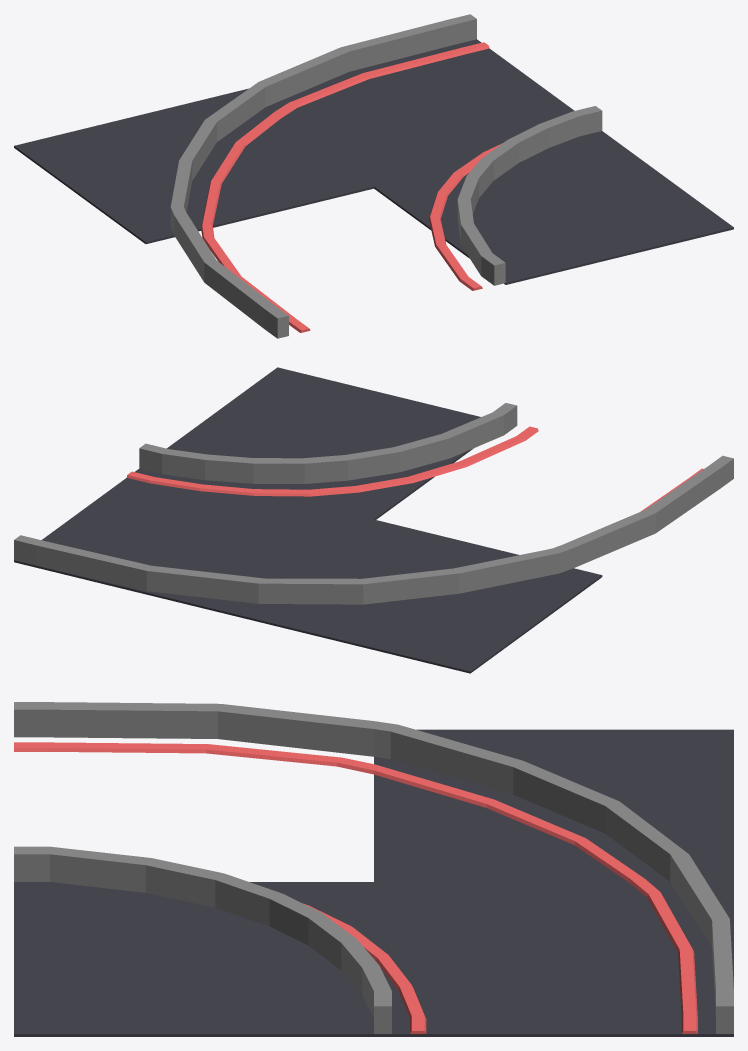
The model's file is 4x4_turn.glb.
The picture shows the model from 3 angles, top to bottom: view 1: azimuth 30°, elevation 25°; view 2: azimuth 150°, elevation 25°; view 3: azimuth 270°, elevation 25°; orthographic projection. The views are drawn at different scales.
Visible parts, largest first — view 1: kartkids_base_trk_020_trn_90_l_1x1.033, kartkids_base_trk_020_trn_90_l_1x1.055, kartkids_base_trk_020_trn_90_l_1x1.052, kartkids_base_trk_020_trn_90_l_1x1.068, kartkids_base_trk_020_trn_90_l_1x1.038, kartkids_base_trk_020_trn_90_l_1x1.076, kartkids_base_trk_020_trn_90_l_1x1.072, kartkids_base_trk_020_trn_90_l_1x1.037, kartkids_base_trk_020_trn_90_l_1x1.066, kartkids_base_trk_020_trn_90_l_1x1.070, kartkids_base_trk_020_trn_90_l_1x1.062; view 2: kartkids_base_trk_020_trn_90_l_1x1.055, kartkids_base_trk_020_trn_90_l_1x1.052, kartkids_base_trk_020_trn_90_l_1x1.033, kartkids_base_trk_020_trn_90_l_1x1.068, kartkids_base_trk_020_trn_90_l_1x1.072, kartkids_base_trk_020_trn_90_l_1x1.038, kartkids_base_trk_020_trn_90_l_1x1.076, kartkids_base_trk_020_trn_90_l_1x1.066; view 3: kartkids_base_trk_020_trn_90_l_1x1.033, kartkids_base_trk_020_trn_90_l_1x1.052, kartkids_base_trk_020_trn_90_l_1x1.055, kartkids_base_trk_020_trn_90_l_1x1.068, kartkids_base_trk_020_trn_90_l_1x1.076, kartkids_base_trk_020_trn_90_l_1x1.072, kartkids_base_trk_020_trn_90_l_1x1.038, kartkids_base_trk_020_trn_90_l_1x1.062, kartkids_base_trk_020_trn_90_l_1x1.070, kartkids_base_trk_020_trn_90_l_1x1.037, kartkids_base_trk_020_trn_90_l_1x1.066.
Boxes of the visible parts, x1,y1,x2,y2 form: kartkids_base_trk_020_trn_90_l_1x1.033: (374,131,733,284); kartkids_base_trk_020_trn_90_l_1x1.055: (14,90,373,243); kartkids_base_trk_020_trn_90_l_1x1.052: (242,39,574,186); kartkids_base_trk_020_trn_90_l_1x1.068: (457,106,602,285); kartkids_base_trk_020_trn_90_l_1x1.038: (259,14,476,106); kartkids_base_trk_020_trn_90_l_1x1.076: (174,212,288,338); kartkids_base_trk_020_trn_90_l_1x1.072: (170,82,265,234); kartkids_base_trk_020_trn_90_l_1x1.037: (275,42,489,118); kartkids_base_trk_020_trn_90_l_1x1.066: (429,143,502,290); kartkids_base_trk_020_trn_90_l_1x1.070: (201,112,280,228); kartkids_base_trk_020_trn_90_l_1x1.062: (201,224,310,332); kartkids_base_trk_020_trn_90_l_1x1.055: (242,519,602,673); kartkids_base_trk_020_trn_90_l_1x1.052: (14,468,373,617); kartkids_base_trk_020_trn_90_l_1x1.033: (167,367,480,519); kartkids_base_trk_020_trn_90_l_1x1.068: (139,403,517,483); kartkids_base_trk_020_trn_90_l_1x1.072: (258,545,573,604); kartkids_base_trk_020_trn_90_l_1x1.038: (14,535,264,603); kartkids_base_trk_020_trn_90_l_1x1.076: (562,455,733,567); kartkids_base_trk_020_trn_90_l_1x1.066: (126,426,538,496); kartkids_base_trk_020_trn_90_l_1x1.033: (14,882,373,1036); kartkids_base_trk_020_trn_90_l_1x1.052: (374,882,733,1036); kartkids_base_trk_020_trn_90_l_1x1.055: (374,729,733,881); kartkids_base_trk_020_trn_90_l_1x1.068: (14,846,391,1033); kartkids_base_trk_020_trn_90_l_1x1.076: (14,702,373,756); kartkids_base_trk_020_trn_90_l_1x1.072: (374,721,688,881); kartkids_base_trk_020_trn_90_l_1x1.038: (670,854,733,1033); kartkids_base_trk_020_trn_90_l_1x1.062: (14,742,373,774); kartkids_base_trk_020_trn_90_l_1x1.070: (374,764,644,881); kartkids_base_trk_020_trn_90_l_1x1.037: (628,878,697,1033); kartkids_base_trk_020_trn_90_l_1x1.066: (303,903,426,1033).
Bounding box in the file's own units: 20 × 0.9339 × 20.
